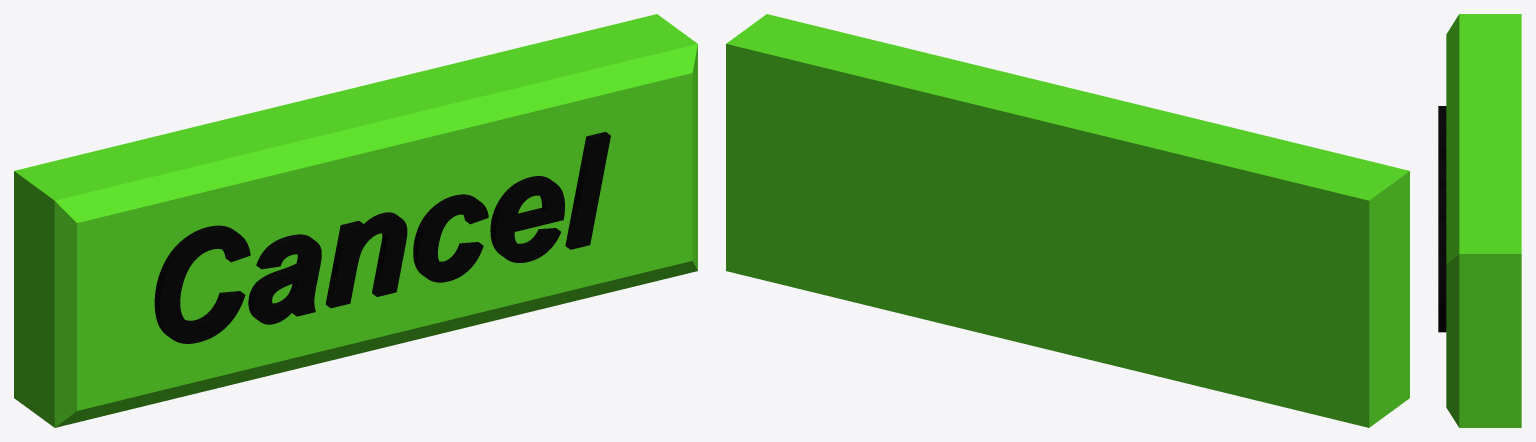
Rendered from Cancel_Button.fbx.
3 renders of one model, left to right at view 1: azimuth 30°, elevation 25°; view 2: azimuth 150°, elevation 25°; view 3: azimuth 270°, elevation 25°, orthographic. The views are drawn at different scales.
Visible parts, largest first — view 1: Button_Template.001; view 2: Button_Template.001; view 3: Button_Template.001.
Boxes of the visible parts, x1,y1,x2,y2 form: Button_Template.001: (14, 14, 697, 427); Button_Template.001: (726, 14, 1409, 427); Button_Template.001: (1438, 14, 1521, 427).
Bounding box in the file's own units: 558 × 188 × 81.75.
